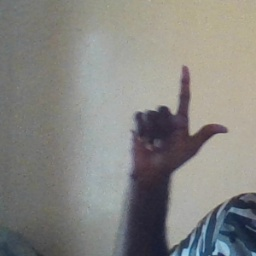L: (125, 64, 230, 172)
